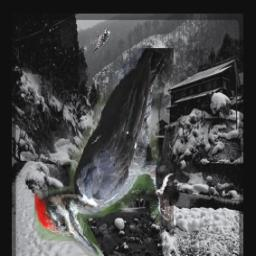Woodpecker: (34, 49, 174, 256), (93, 27, 110, 52)
